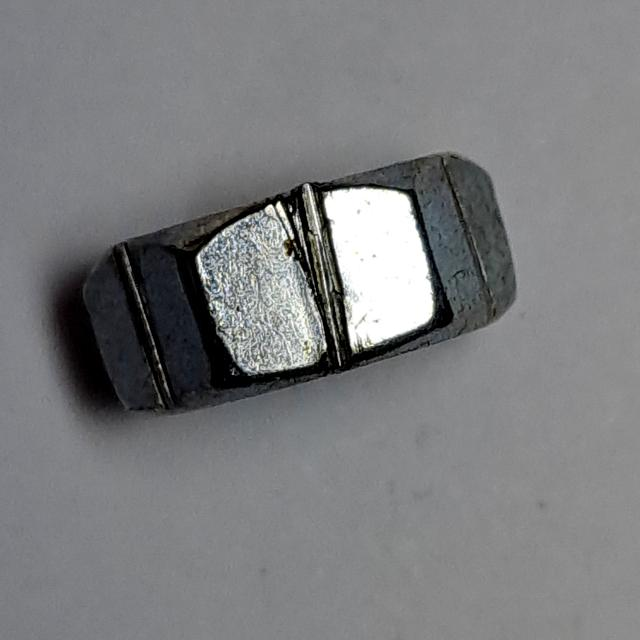Side_Scratches: (72, 124, 528, 444)
